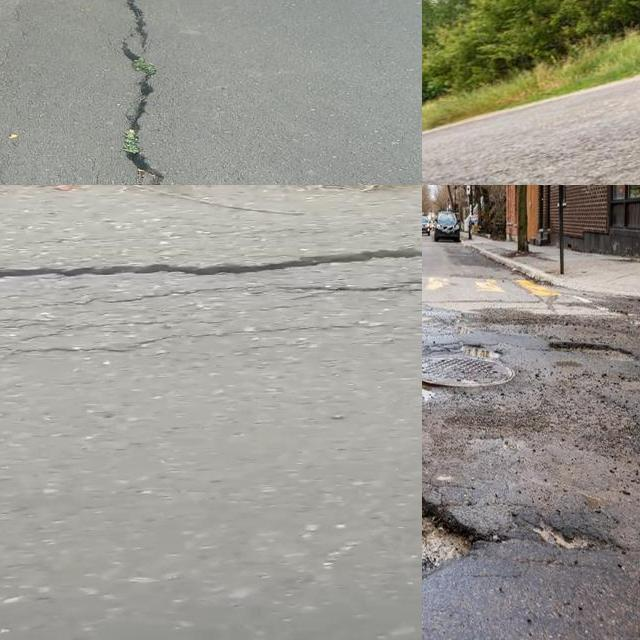Lubang: (422, 343, 519, 394), (519, 516, 614, 554)
Melintang: (0, 235, 422, 296)
Memanjang: (115, 0, 175, 185)
